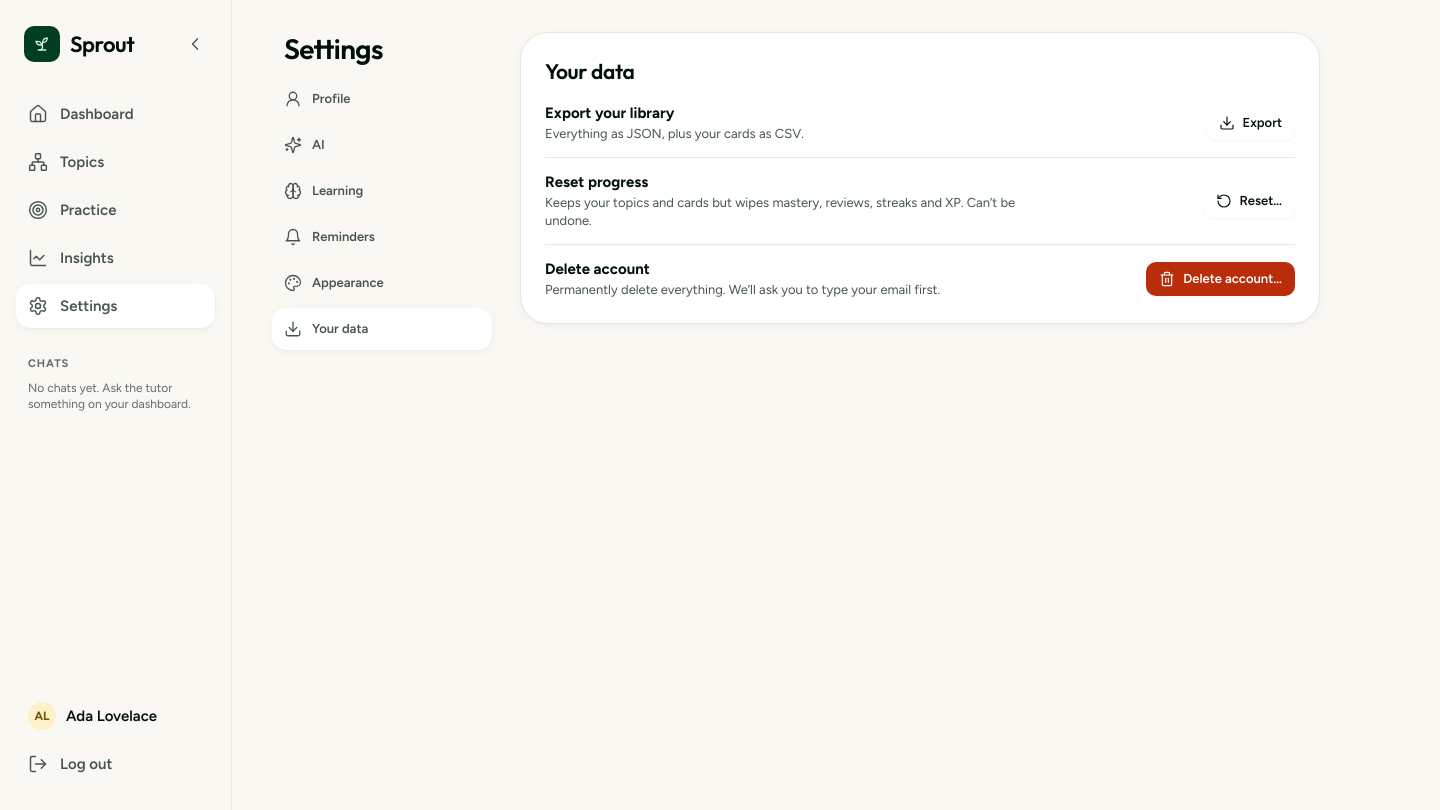
Test case: DataSettings › says to wait after too many exports
Click the button with test id "export" at (1250, 123), box x1=1206 y1=106 x2=1295 y2=140
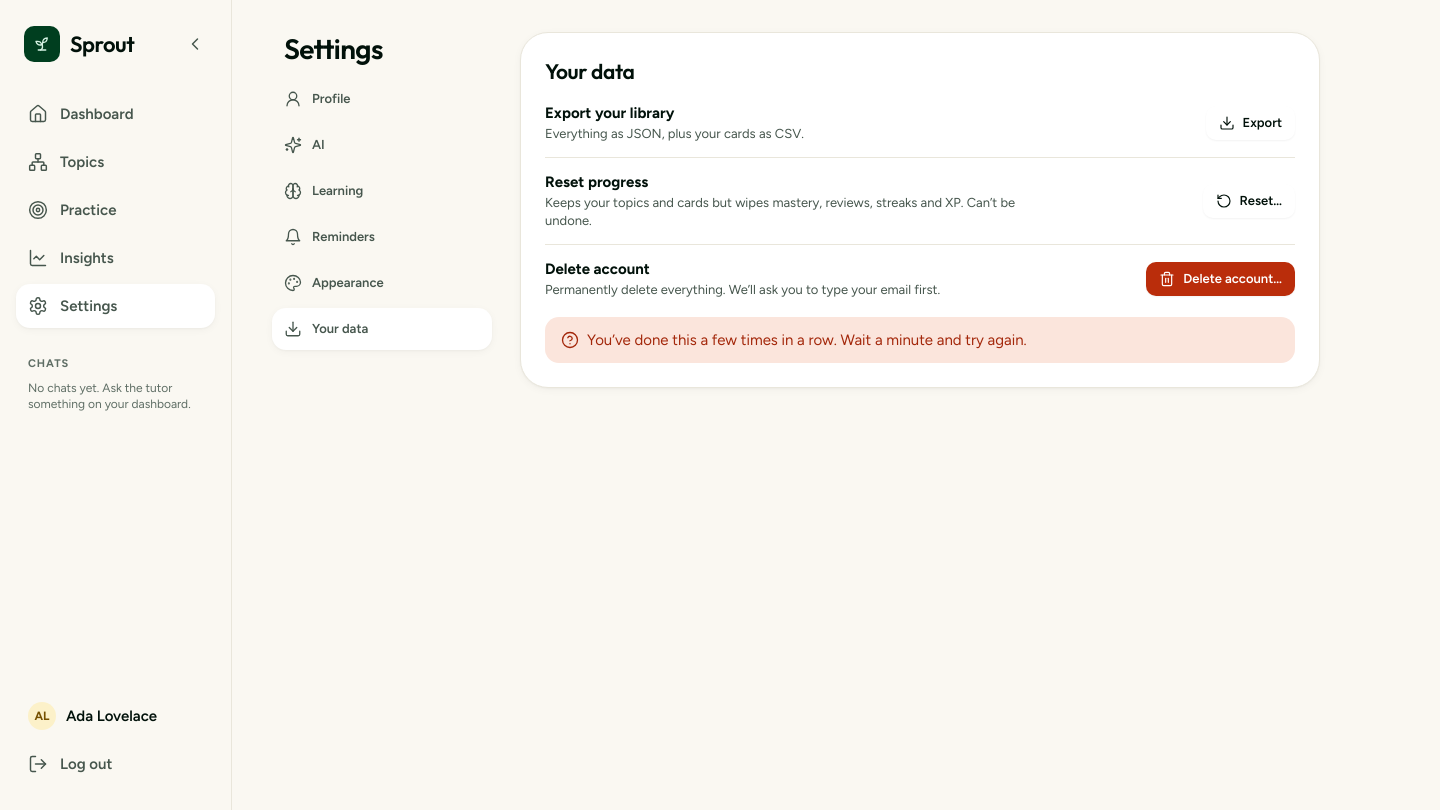
Check: the message with test id "form-error" shows "Wait a minute", box x1=587 y1=331 x2=1027 y2=349
